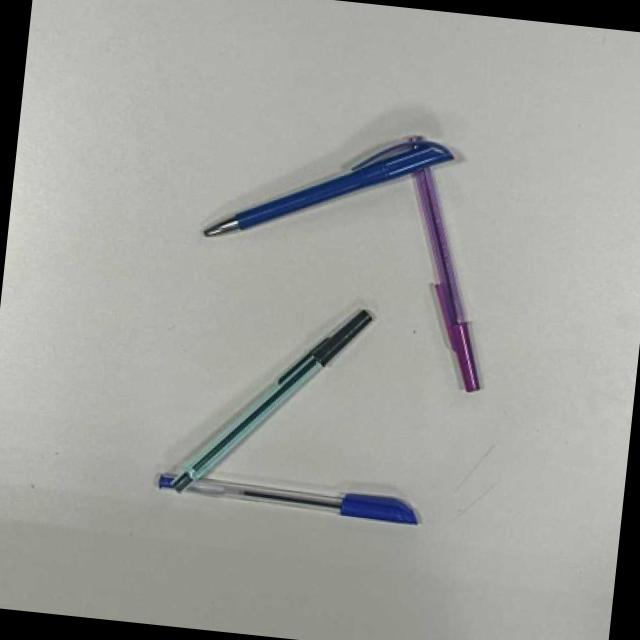caneta: (165, 306, 374, 495), (197, 127, 454, 242), (399, 134, 483, 395), (158, 465, 421, 526)
